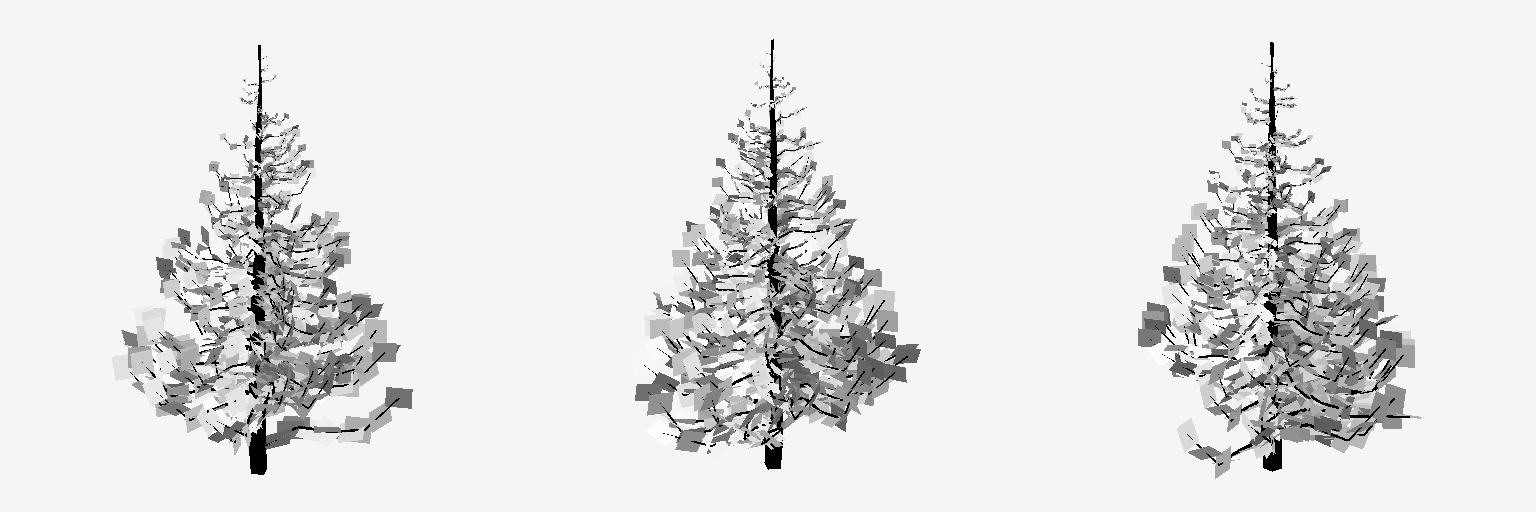
File: Tree.obj
3 renders of one model, left to right at view 1: azimuth 30°, elevation 25°; view 2: azimuth 150°, elevation 25°; view 3: azimuth 270°, elevation 25°, orthographic.
Visible parts, largest first — view 1: Cube.001; view 2: Cube.001; view 3: Cube.001.
Boxes of the visible parts, x1,y1,x2,y2 form: Cube.001: [112, 45, 412, 474]; Cube.001: [629, 39, 920, 469]; Cube.001: [1138, 42, 1421, 478].
Size of the model in its own units: 6.12 by 9.91 by 5.99.